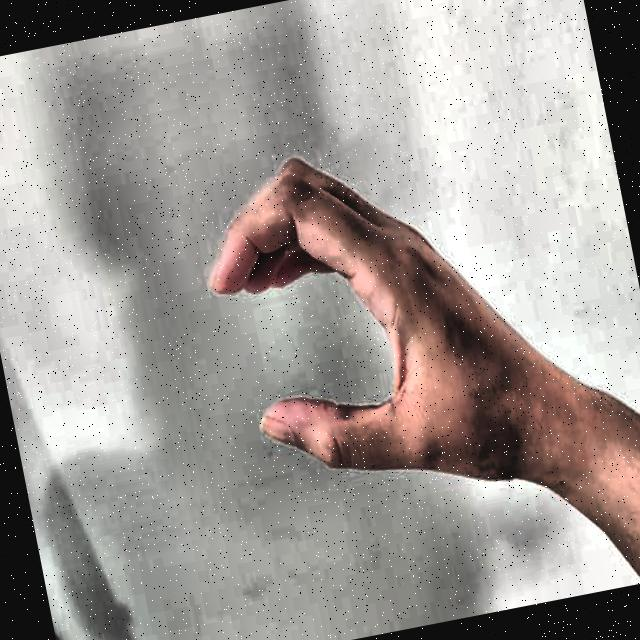A: (157, 107, 535, 560)
